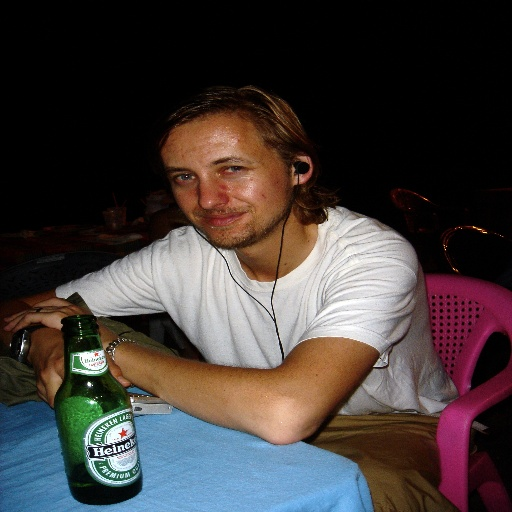hand: (30, 339, 137, 410), (3, 294, 96, 330)
